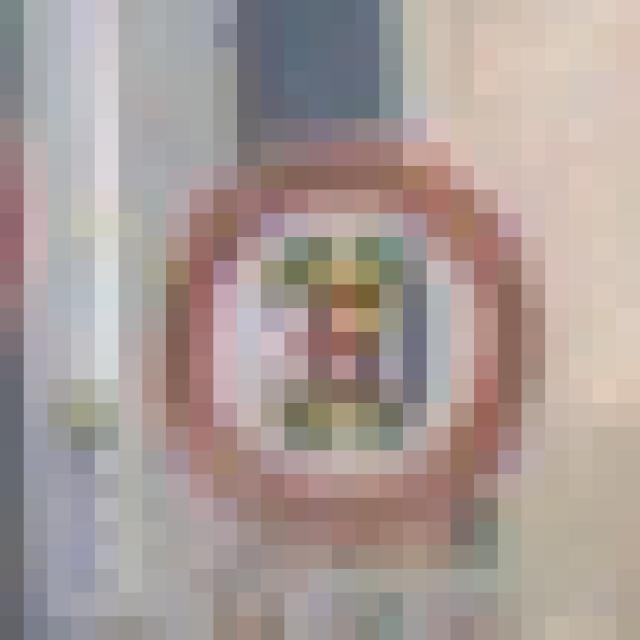Speed Limit -30-: (130, 106, 510, 486)
